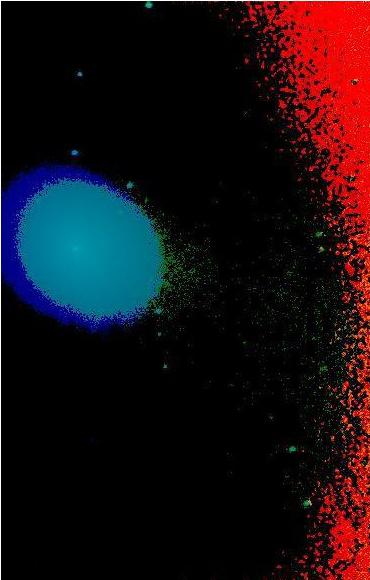star: (134, 183, 164, 213)
